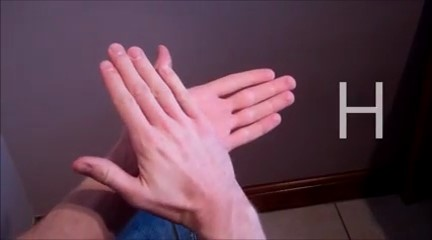H: (66, 24, 309, 229)
